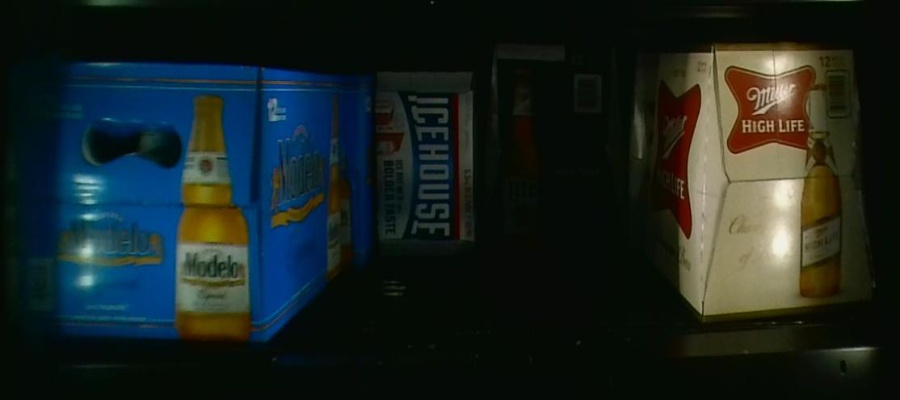bottle: (15, 65, 375, 333), (629, 44, 875, 314), (487, 37, 620, 259), (373, 63, 476, 244)
